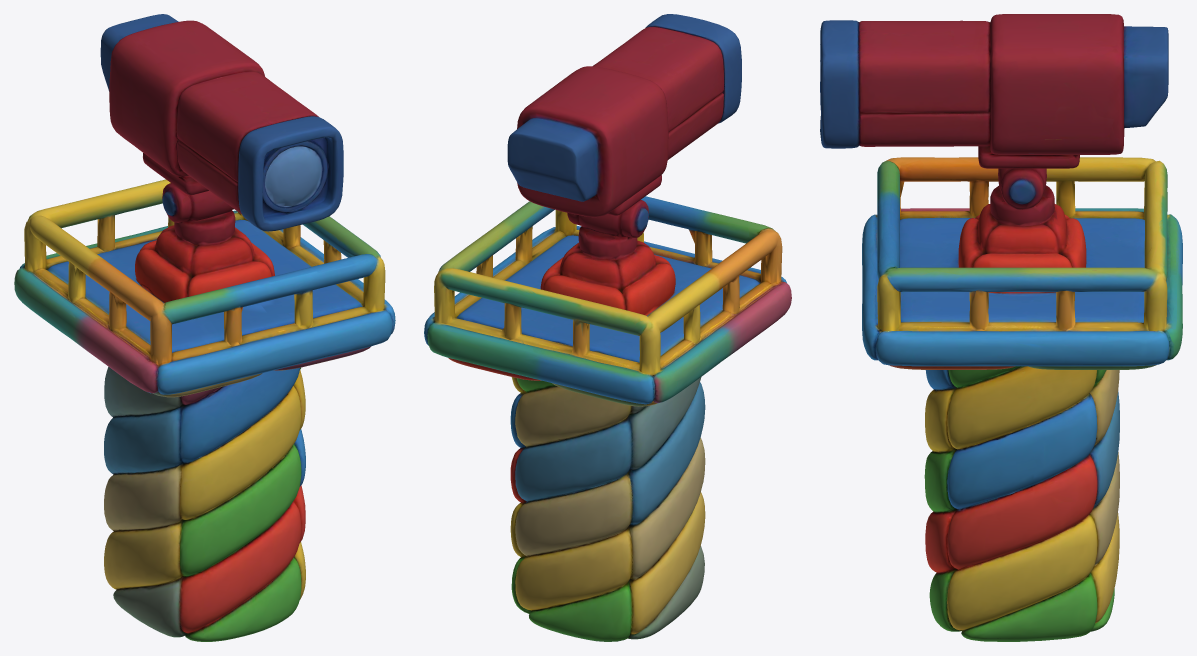
The model's file is camera_tower.glb.
3 views of the same model, side by side, from view 1: azimuth 30°, elevation 25°; view 2: azimuth 150°, elevation 25°; view 3: azimuth 270°, elevation 25° (orthographic). The views are drawn at different scales.
Parts seen in each view (by area): view 1: tripo_node_8cb08291-1f74-4d0e-a5cd-8d53a35f4aba; view 2: tripo_node_8cb08291-1f74-4d0e-a5cd-8d53a35f4aba; view 3: tripo_node_8cb08291-1f74-4d0e-a5cd-8d53a35f4aba.
Boxes of the visible parts, left/top/right/bottom form: tripo_node_8cb08291-1f74-4d0e-a5cd-8d53a35f4aba: left=14, top=14, right=395, bottom=641; tripo_node_8cb08291-1f74-4d0e-a5cd-8d53a35f4aba: left=424, top=14, right=791, bottom=641; tripo_node_8cb08291-1f74-4d0e-a5cd-8d53a35f4aba: left=820, top=14, right=1182, bottom=641.
Bounding box in the file's own units: 0.1467 × 0.3 × 0.1688.
Materials: 1 (1 with a texture image).
